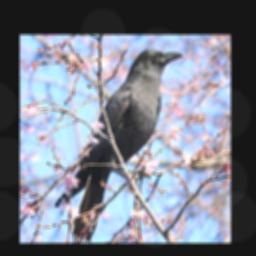Crow: (54, 46, 184, 239)
